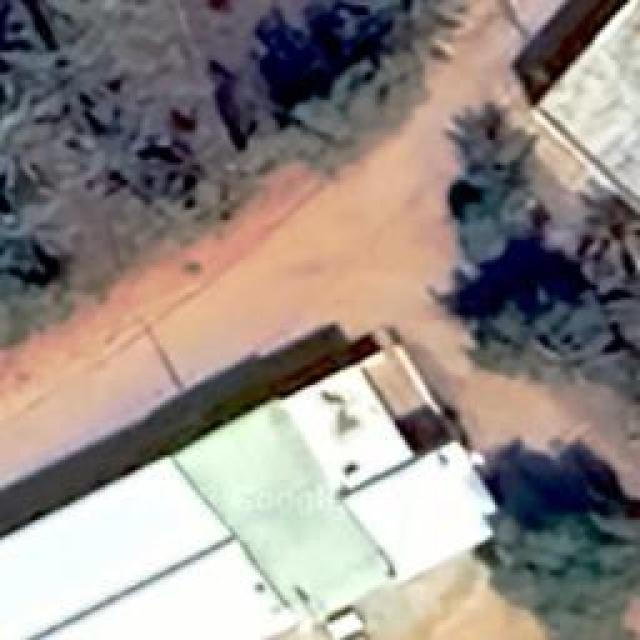PalmTree: (326, 0, 462, 73), (0, 0, 82, 45), (612, 244, 640, 371), (36, 115, 65, 232), (32, 82, 71, 135)
